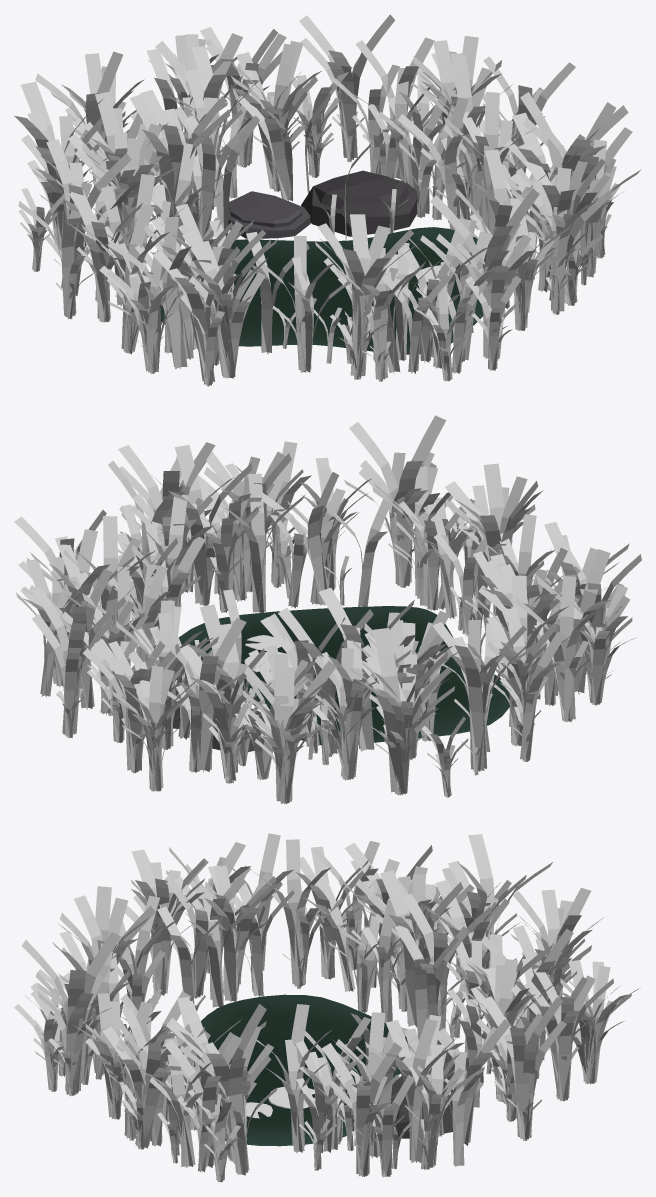
File: waterlake.fbx
The picture shows the model from 3 angles, top to bottom: view 1: azimuth 30°, elevation 25°; view 2: azimuth 150°, elevation 25°; view 3: azimuth 270°, elevation 25°; orthographic projection. The views are drawn at different scales.
Parts seen in each view (by area): view 1: stone03.003; view 2: stone03.003; view 3: stone03.003.
Part boxes in pixels (<box>): stone03.003: <box>14,14,641,386</box>; stone03.003: <box>14,415,641,804</box>; stone03.003: <box>14,833,639,1182</box>.
Size of the model in its own units: 2461 by 684 by 2572.
